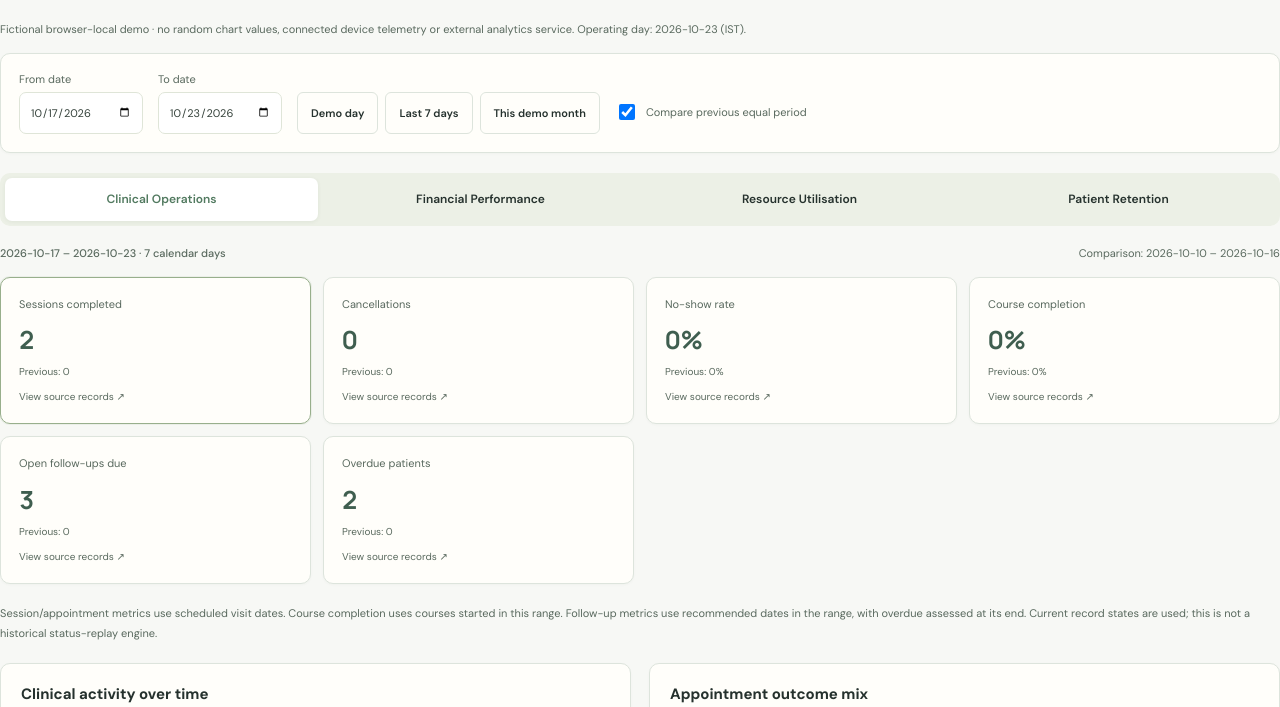
Test: analytics interactions › updates date-filtered figures, chart value tables and empty states without inventing data
This screenshot has width=1280, height=707.
Click the button "Financial Performance" at (480,199), box [324,178,637,221]
(page scrolled)
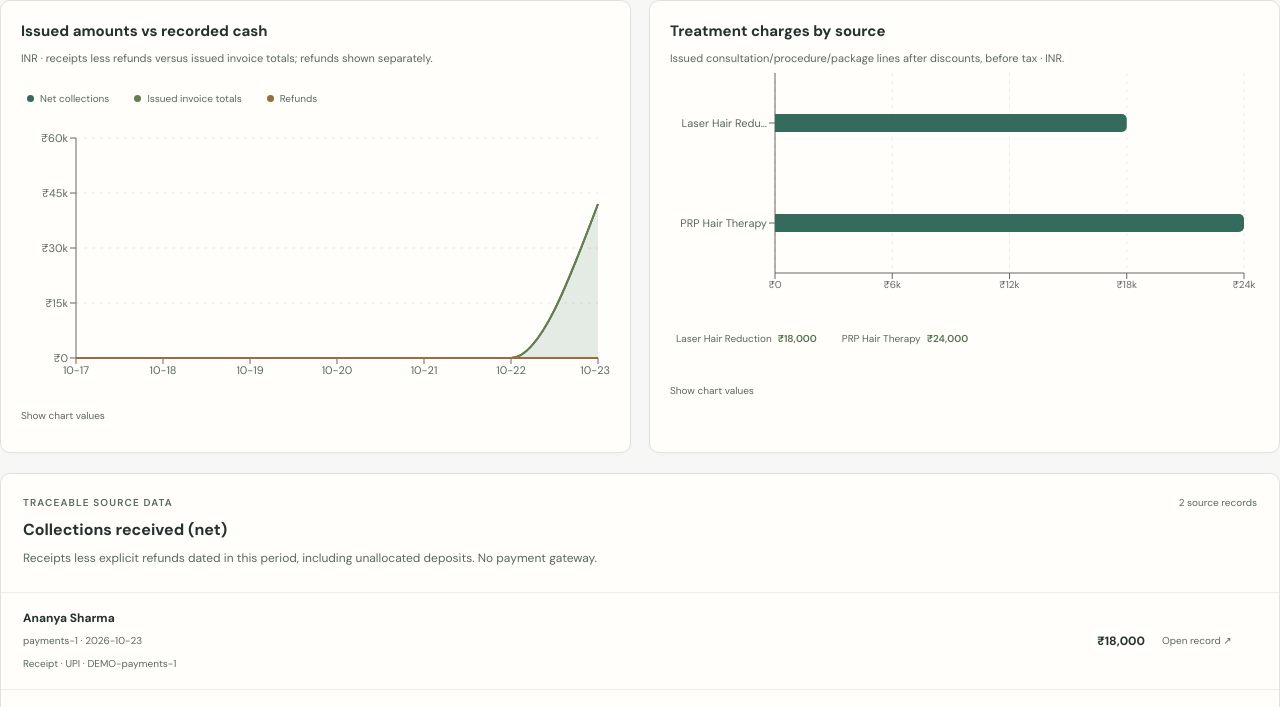
Click the button "Show chart values" below "10-18" at (63,416), box [21,399,105,432]
(page scrolled)
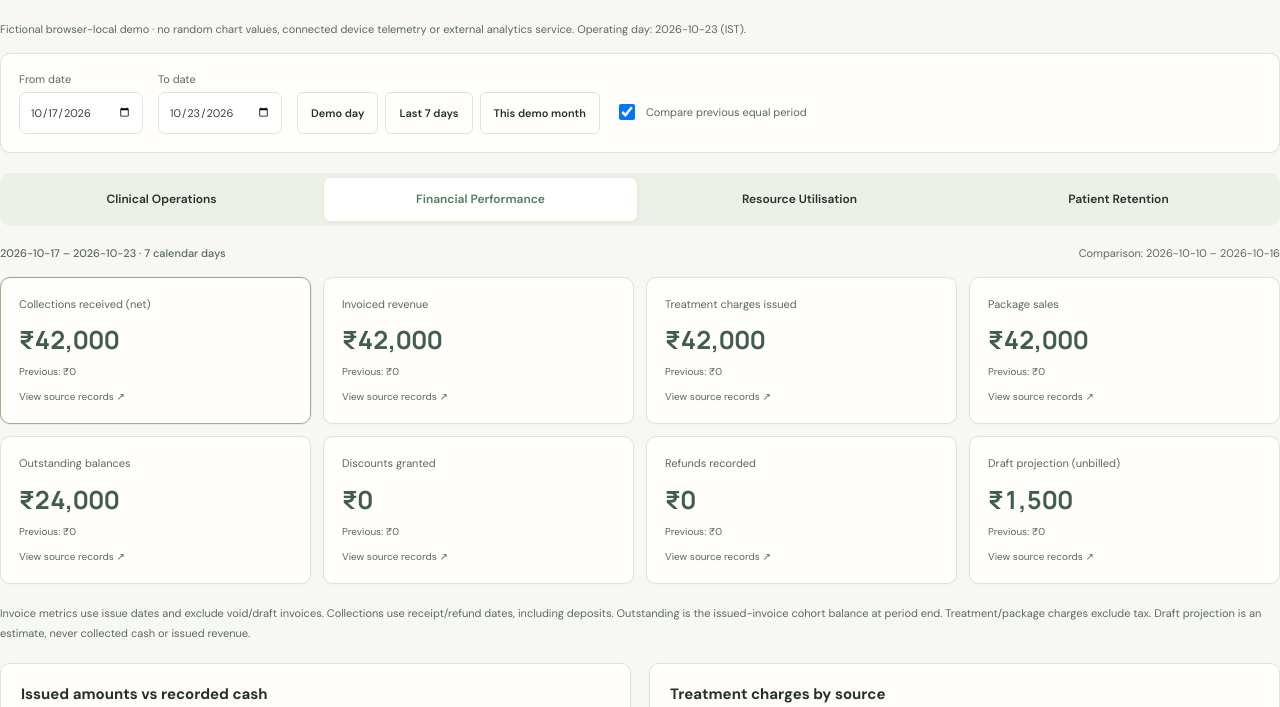
Type "2025-01-01" into the date field named "Report from date" at (81,113), box [19,92,143,134]
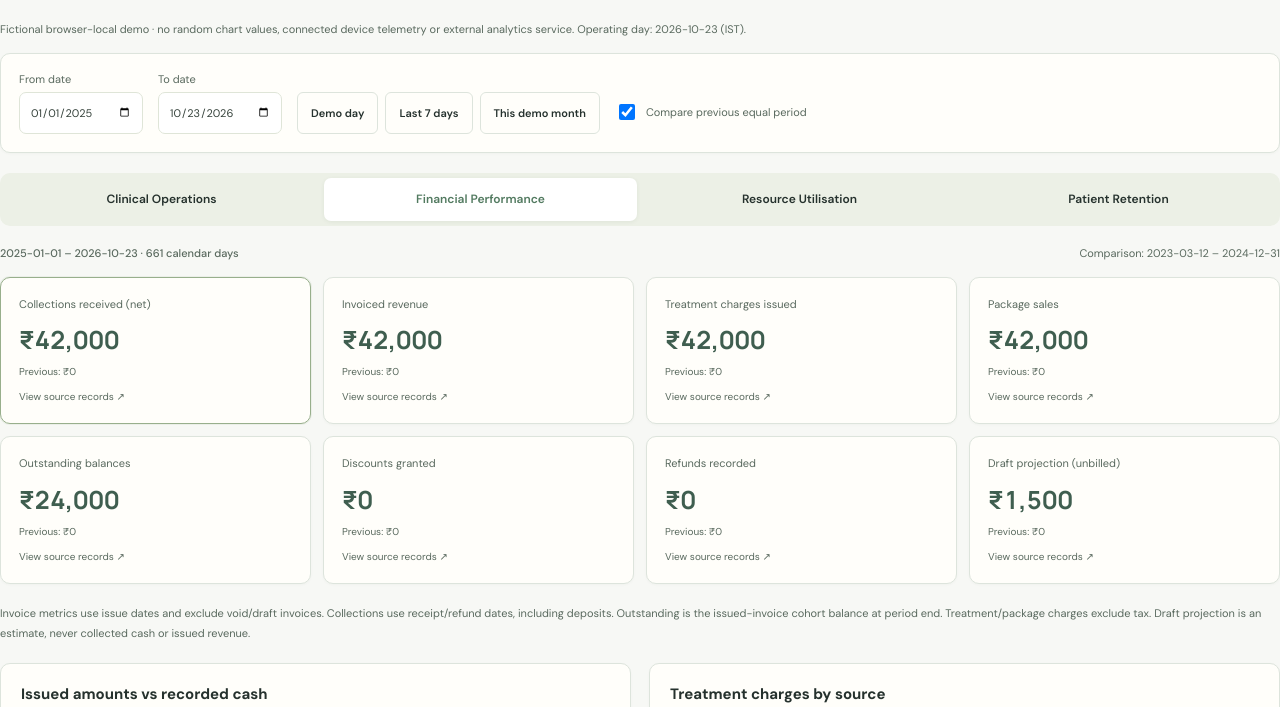
Type "2025-01-07" into the date field named "Report to date" at (220,113), box [158,92,282,134]
(page scrolled)
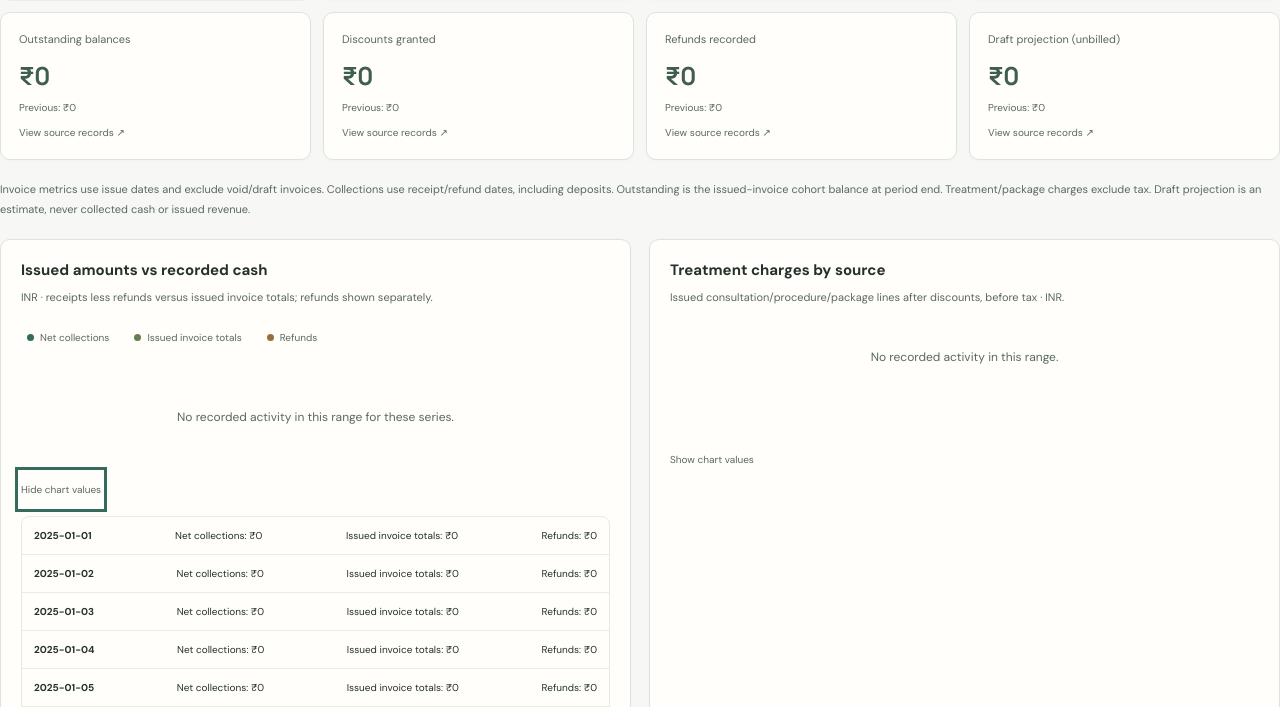
Result: the text "No recorded activity in this range for these series." is shown at [177,409,454,425]
Result: the text "No recorded activity in this range." is shown at [871,349,1058,365]
